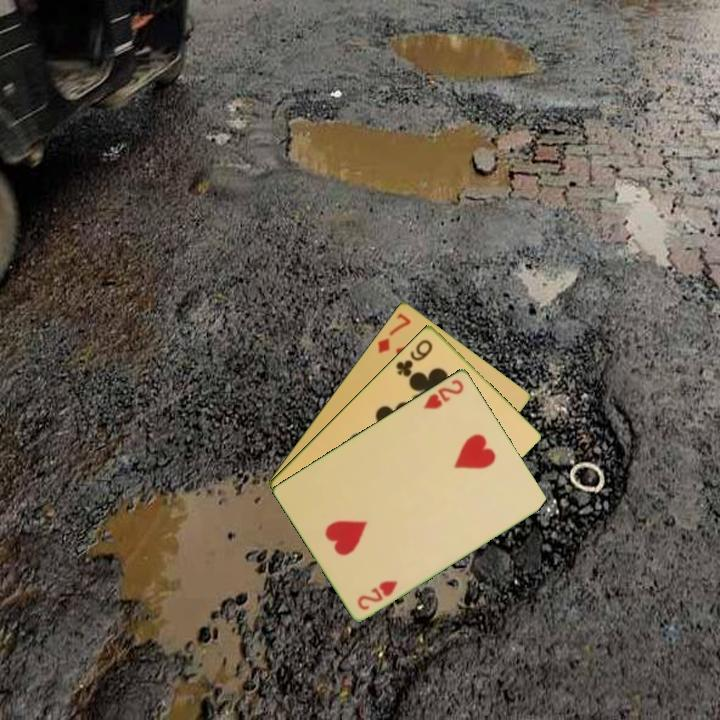2h: (420, 375, 467, 412), (354, 576, 401, 613)
7d: (374, 309, 414, 356)
9c: (392, 335, 435, 379)
